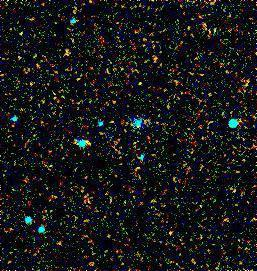star: (126, 69, 156, 99)
